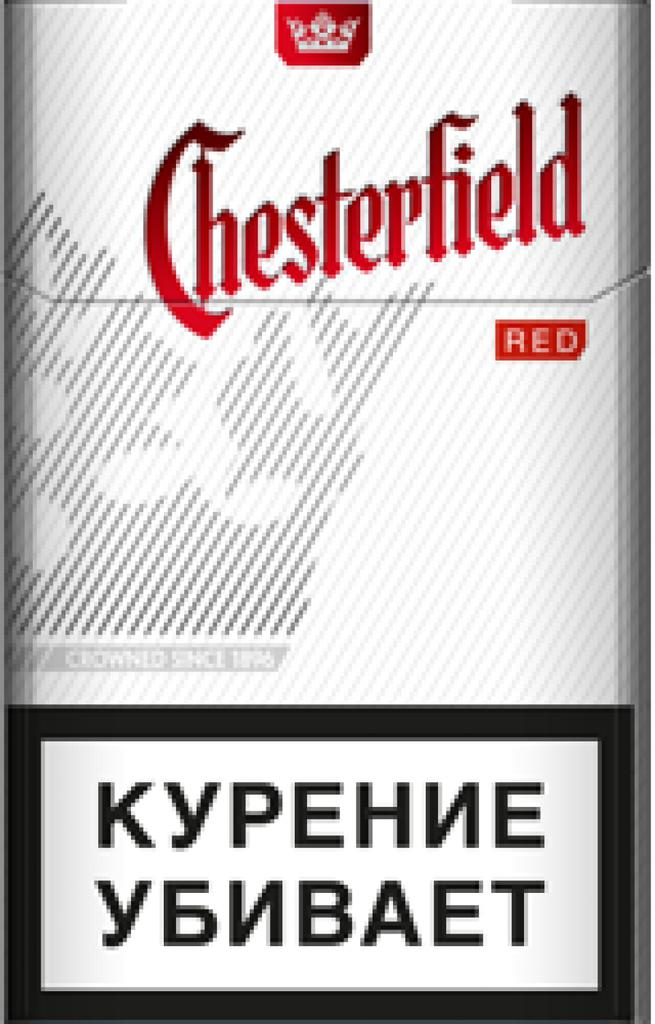chesterfield_red: (8, 2, 630, 1024)
